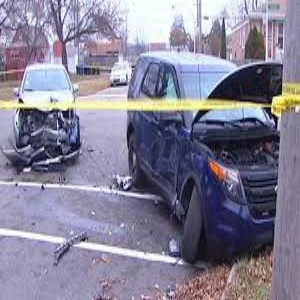bumper: (3, 114, 88, 170)
